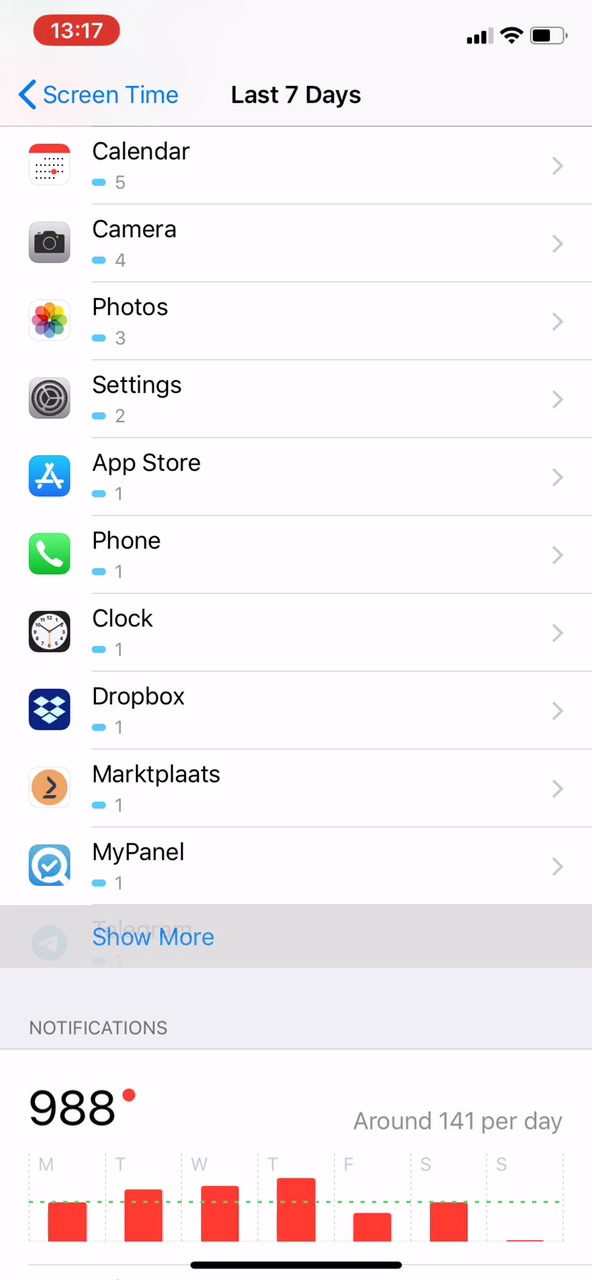not_over: (14, 996, 206, 1139)
pick_app: (20, 752, 262, 828), (12, 210, 240, 289), (22, 516, 240, 597), (11, 291, 248, 363), (23, 436, 226, 517), (14, 132, 236, 205), (7, 369, 251, 435), (20, 677, 251, 746), (22, 600, 245, 671), (15, 833, 243, 900)
week: (207, 73, 376, 118)
